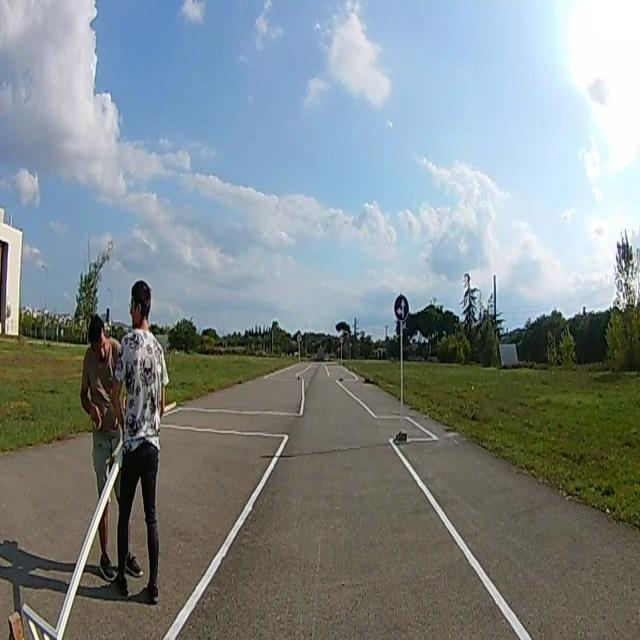ilerisol: (393, 295, 409, 321)
